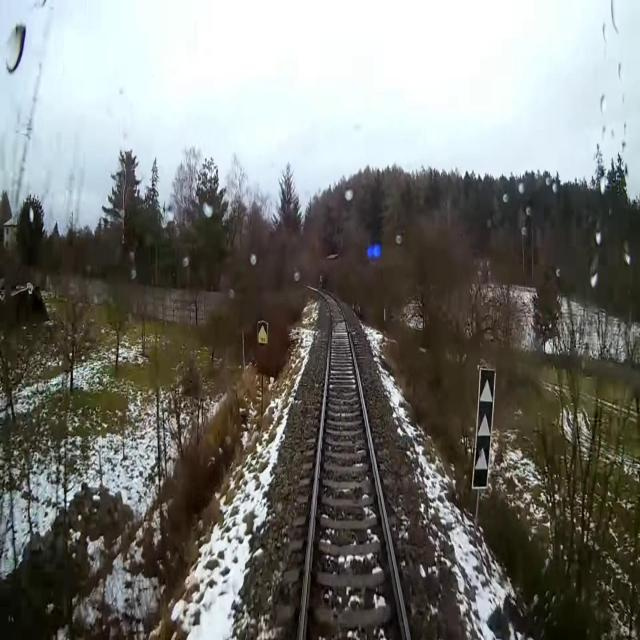rail-track: (302, 290, 405, 639)
